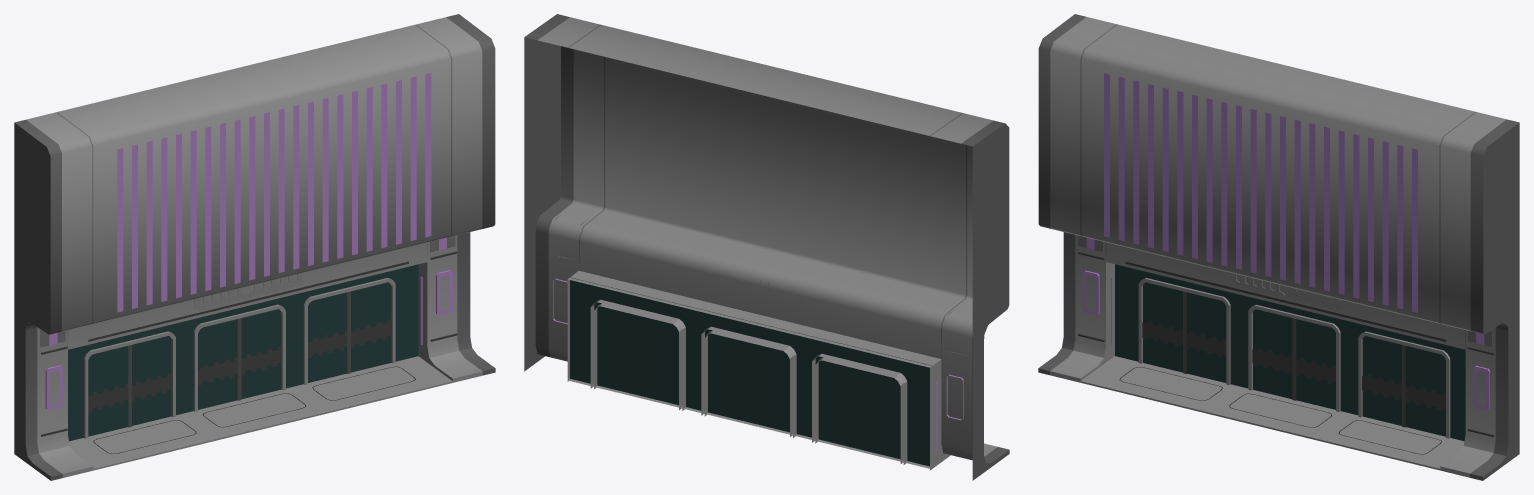
The model's file is Wall_Door_14x10x2_001_L1.fbx.
3 renders of one model, left to right at view 1: azimuth 30°, elevation 25°; view 2: azimuth 150°, elevation 25°; view 3: azimuth 330°, elevation 25°, orthographic.
Parts seen in each view (by area): view 1: Wall_Door_14x10x2_001_L1; view 2: Wall_Door_14x10x2_001_L1; view 3: Wall_Door_14x10x2_001_L1.
Boxes of the visible parts, x1,y1,x2,y2 form: Wall_Door_14x10x2_001_L1: (14,14,495,480); Wall_Door_14x10x2_001_L1: (524,14,1009,480); Wall_Door_14x10x2_001_L1: (1038,14,1519,480).
Size of the model in its own units: 14 by 9.98 by 2.08.
